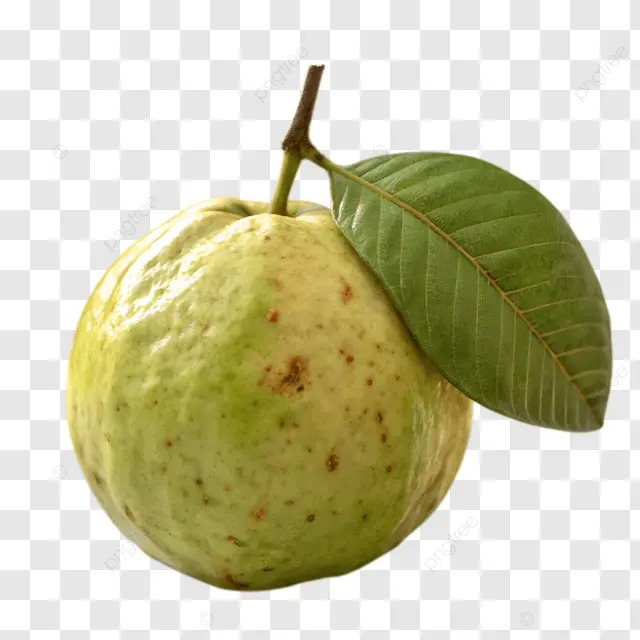guava: (109, 154, 640, 563)
